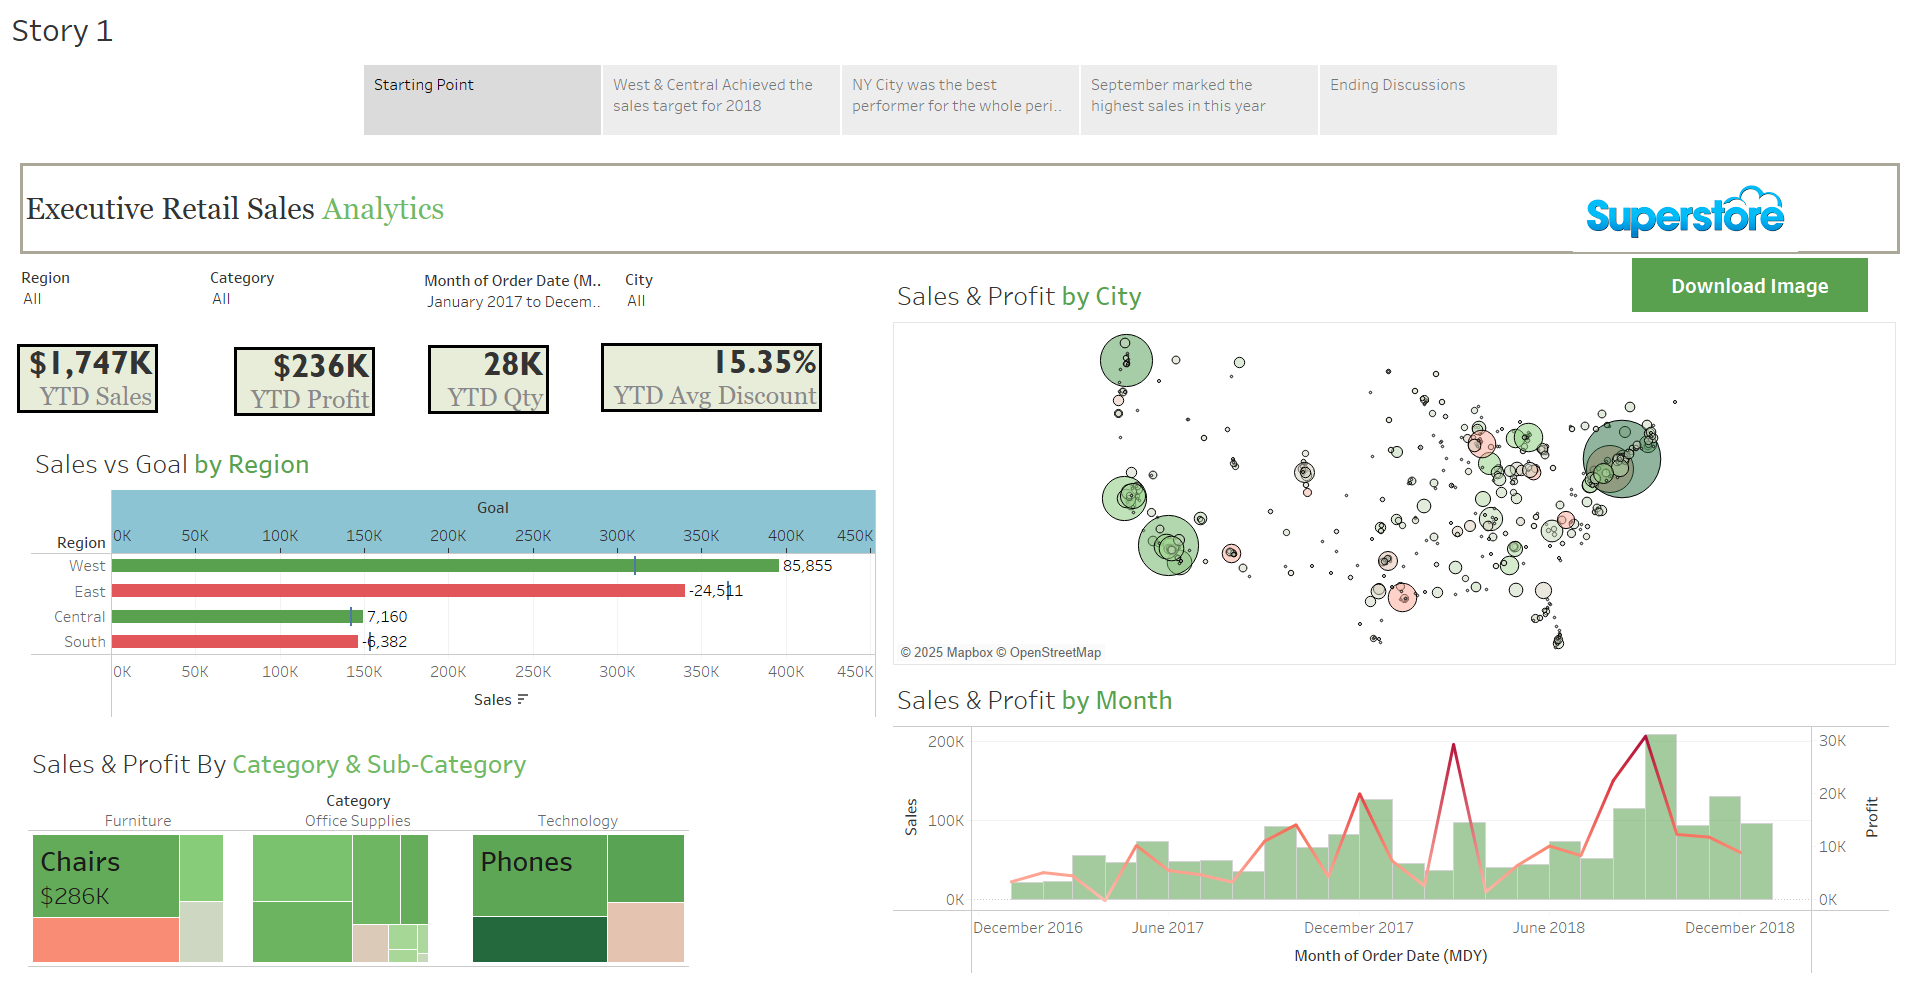

Layout of this report page (visuals, bound fields, positions):
{"tool":"tableau","page":{"name":"Dashboard 1","canvas":[1000,1000],"units":"permille","ordinal":0},"visuals":[{"type":"title","box":[4.8,10,990.3,123.6]},{"type":"image","param":"Image/t_imh.png","box":[775.5,22.5,210.6,98.6]},{"type":"dashboard-object","box":[852.8,128.6,124.3,64.9]},{"type":"filter","title":"Sheet 2","param":"[federated.1h5nw2a0w27rbx18ib2c70pwjhpy].[none:Region:nk]","box":[6.6,137.3,96.6,79.9]},{"type":"filter","title":"Sheet 3","param":"[federated.1h5nw2a0w27rbx18ib2c70pwjhpy].[none:Category:nk]","box":[106.2,137.3,97.8,83.7]},{"type":"filter","title":"Sheet 5","param":"[federated.1h5nw2a0w27rbx18ib2c70pwjhpy].[none:City:nk]","box":[324.1,139.8,124.3,73.7]},{"type":"filter","title":"Sheet 4","param":"[federated.1h5nw2a0w27rbx18ib2c70pwjhpy].[tmn:Order Date (MDY):qk]","box":[218.5,141.1,96.6,81.2]},{"type":"worksheet","title":"Sheet 5","mark":"Automatic","box":[464.7,144.8,526.9,470.7]},{"type":"worksheet","title":"Sheet 6 (4)","mark":"Automatic","box":[310.8,228.5,135.8,112.4]},{"type":"worksheet","title":"Sheet 6","mark":"Automatic","box":[4.2,229.7,108.6,99.9]},{"type":"worksheet","title":"Sheet 6 (3)","mark":"Automatic","box":[220.3,231,83.3,108.6]},{"type":"worksheet","title":"Sheet 6 (2)","mark":"Automatic","box":[118.3,233.5,89.9,98.6]},{"type":"worksheet","title":"Sheet 2","mark":"Automatic","rows":["Region"],"cols":["Sales","Goal"],"box":[12.1,347.1,443.6,333.3]},{"type":"worksheet","title":"Sheet 4","mark":"Automatic","rows":["Sales","Profit"],"cols":["Order Date (MDY)"],"box":[464.7,629.2,523.8,357.1]},{"type":"worksheet","title":"Sheet 3","mark":"Automatic","cols":["Category"],"box":[10.3,706.6,444.2,273.4]}]}

Visuals, with their boxes on the dashboard's canvas, which has no fixed pixel size, in thousandths of its width and height (x1, y1, x2, y2). These are canvas units, not pixel positions in the 1920x993 screenshot, which may show the page scaled, cropped or inside an application window:
title: [5, 10, 995, 134]
image: [776, 22, 986, 121]
dashboard-object: [853, 129, 977, 194]
"Sheet 2" filter: [7, 137, 103, 217]
"Sheet 3" filter: [106, 137, 204, 221]
"Sheet 5" filter: [324, 140, 448, 214]
"Sheet 4" filter: [218, 141, 315, 222]
"Sheet 5" worksheet: [465, 145, 992, 616]
"Sheet 6 (4)" worksheet: [311, 228, 447, 341]
"Sheet 6" worksheet: [4, 230, 113, 330]
"Sheet 6 (3)" worksheet: [220, 231, 304, 340]
"Sheet 6 (2)" worksheet: [118, 234, 208, 332]
"Sheet 2" worksheet: [12, 347, 456, 680]
"Sheet 4" worksheet: [465, 629, 988, 986]
"Sheet 3" worksheet: [10, 707, 454, 980]
